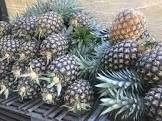Pineapple: (45, 41, 95, 92), (62, 64, 99, 114), (108, 7, 147, 45), (35, 1, 74, 38)
